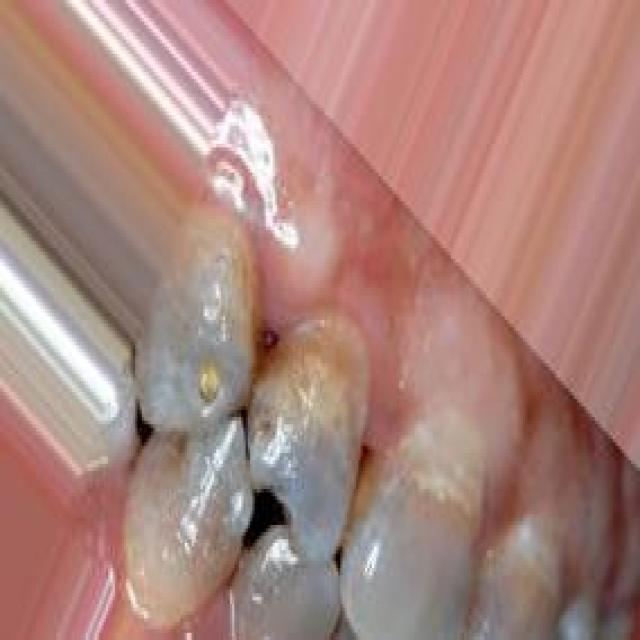caries: (191, 346, 230, 414)
